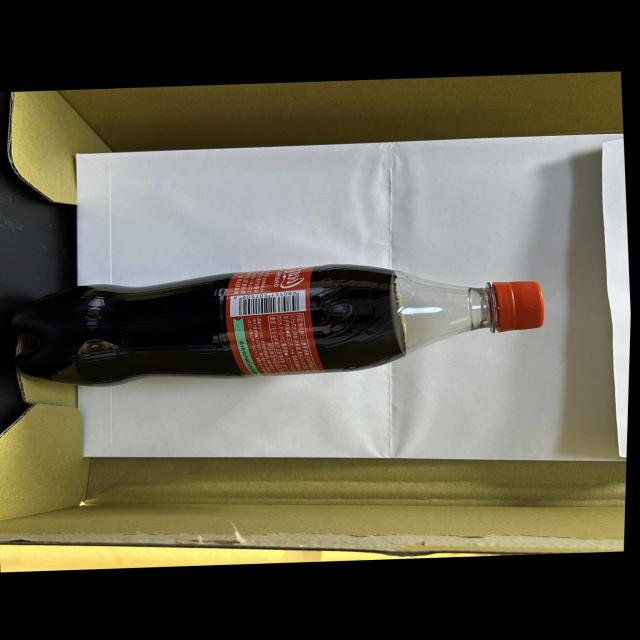high: (13, 265, 544, 386)
